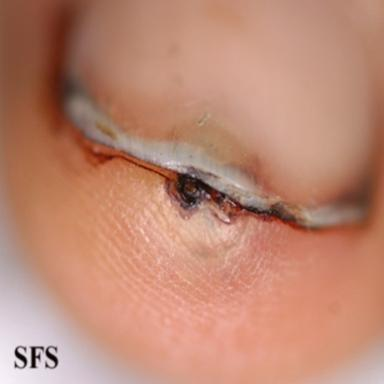Tungiasis: (167, 174, 307, 233)
